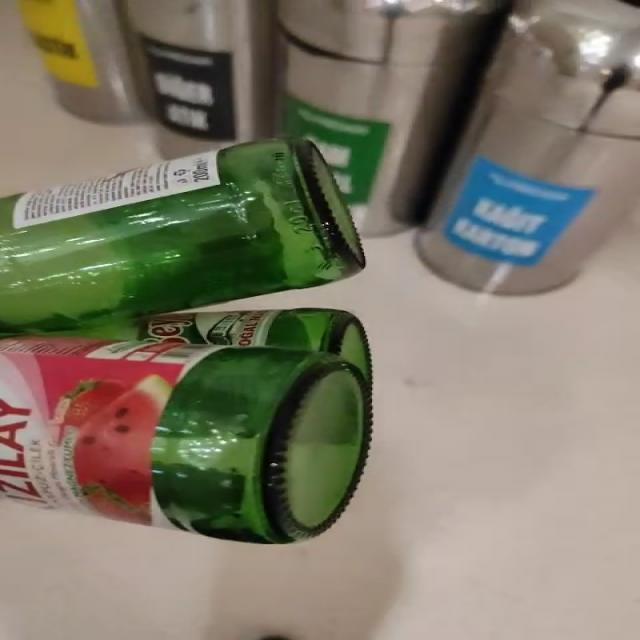glass: (0, 140, 372, 544)
